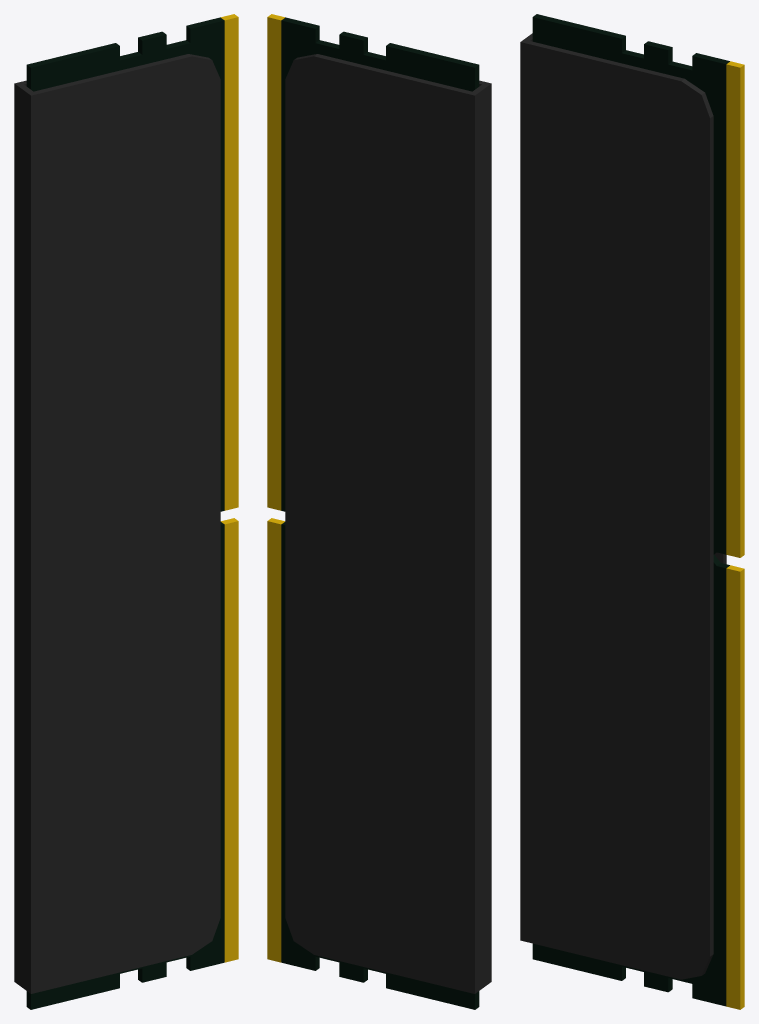
Rendered from PC_RAM2.fbx.
3 views of the same model, side by side, from view 1: azimuth 30°, elevation 25°; view 2: azimuth 150°, elevation 25°; view 3: azimuth 330°, elevation 25° (orthographic).
Visible parts, largest first — view 1: RAM_Stick2.004; view 2: RAM_Stick2.004; view 3: RAM_Stick2.004.
Boxes of the visible parts, x1,y1,x2,y2 form: RAM_Stick2.004: (14, 14, 238, 1009); RAM_Stick2.004: (267, 14, 491, 1009); RAM_Stick2.004: (520, 14, 744, 1009).
Size of the model in its own units: 15.35 by 64.68 by 2.07.
